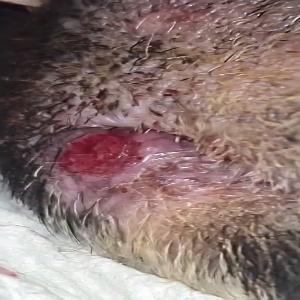skin_lesions: (50, 124, 149, 176)
